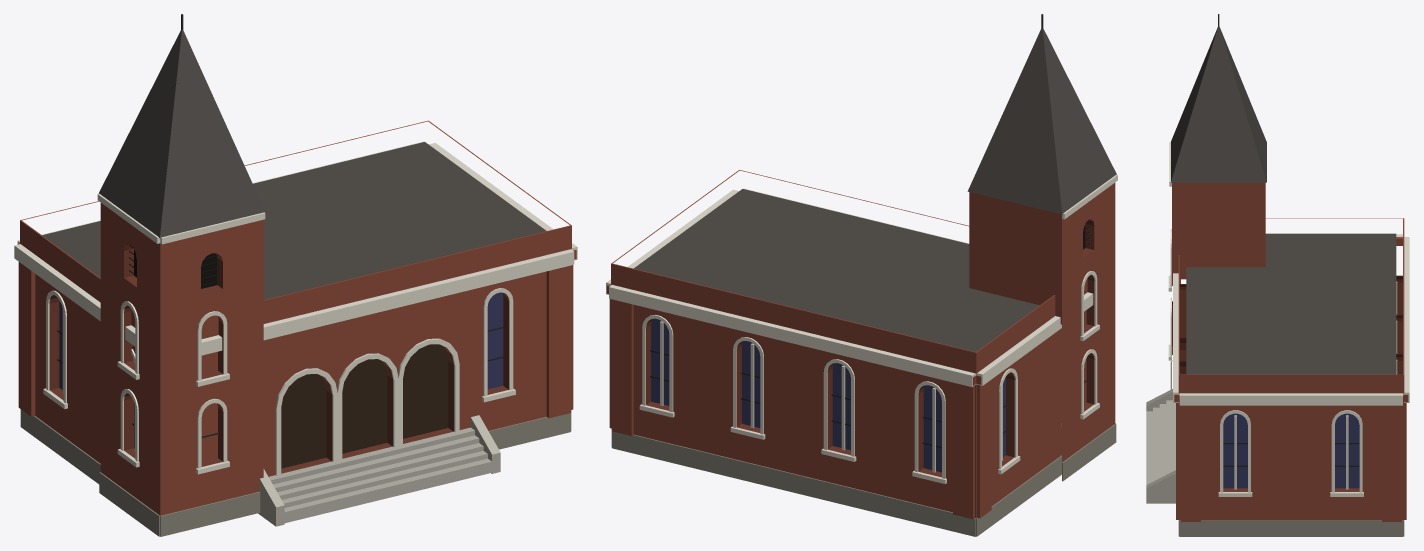
The model's file is ch-arch-street-baptist-1913.glb.
3 views of the same model, side by side, from view 1: azimuth 30°, elevation 25°; view 2: azimuth 150°, elevation 25°; view 3: azimuth 270°, elevation 25° (orthographic). The views are drawn at different scales.
Visible parts, largest first — view 1: kit-ch-arch-street-baptist-1913; view 2: kit-ch-arch-street-baptist-1913; view 3: kit-ch-arch-street-baptist-1913.
Part boxes in pixels (x1,y1,x2,y2): kit-ch-arch-street-baptist-1913: (14, 14, 577, 536); kit-ch-arch-street-baptist-1913: (606, 14, 1117, 536); kit-ch-arch-street-baptist-1913: (1146, 14, 1409, 536).
Size of the model in its own units: 17.29 by 19.02 by 11.8.
